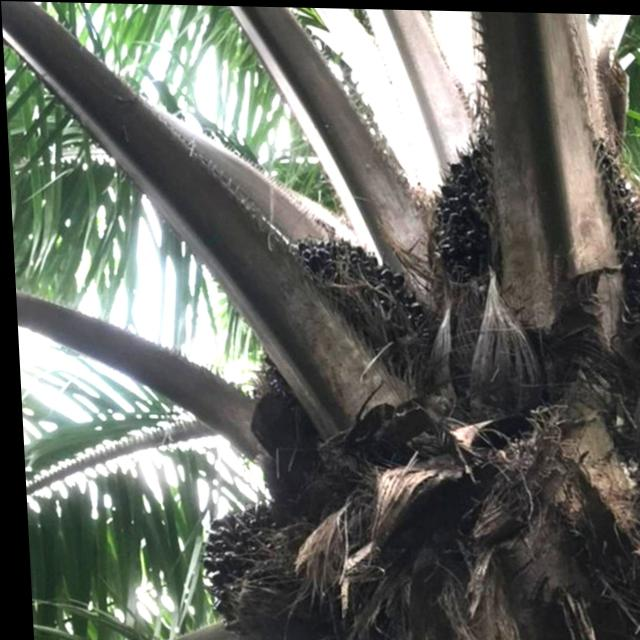almost: (243, 222, 436, 395)
